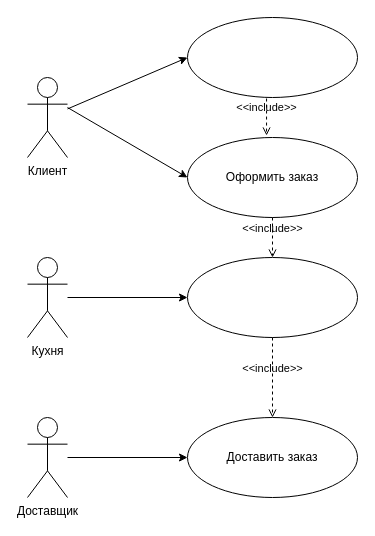
This 375x536 diagram has some shape labels left out. The shapes that lost their labels are listed below. From the top down, each one's centre as x and y in pixels, then its label:
At point (272, 57): "Посмотреть меню".
At point (272, 297): "Приготовить заказ".
